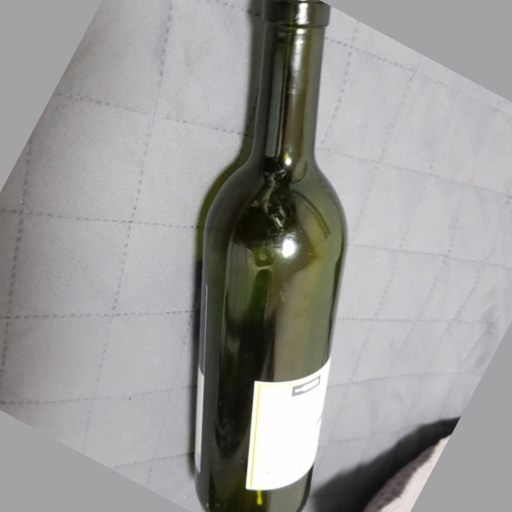Glass_2: (185, 1, 347, 512)
